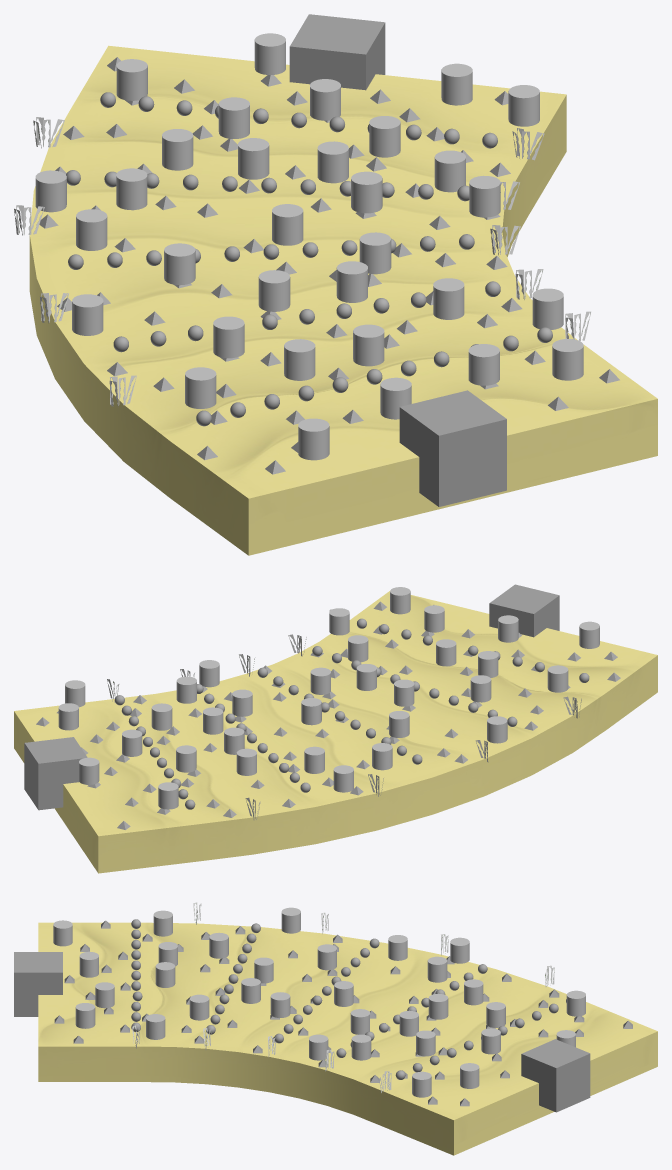
The model's file is assets006_Streckenteil_rechts001.fbx.
3 views of the same model, one above another, from view 1: azimuth 30°, elevation 25°; view 2: azimuth 150°, elevation 25°; view 3: azimuth 270°, elevation 25° (orthographic). The views are drawn at different scales.
Visible parts, largest first — view 1: streckenteil_rechtskurve_geo1, b (×12), a (×12), startpoint, c (×7), startpoint1, d; view 2: streckenteil_rechtskurve_geo1, a (×12), b (×12), c (×7), startpoint1, startpoint, d; view 3: streckenteil_rechtskurve_geo1, b (×12), a (×12), startpoint1, c (×6), startpoint, d.
Boxes of the visible parts, box(x1,y1,x2,y2) form: streckenteil_rechtskurve_geo1: box(29, 45, 657, 555); b (×12): box(35, 63, 500, 311); a (×12): box(72, 261, 583, 460); startpoint: box(399, 390, 506, 506); c (×7): box(116, 33, 539, 213); startpoint1: box(289, 14, 385, 90); d: box(369, 116, 400, 157); streckenteil_rechtskurve_geo1: box(14, 591, 657, 873); a (×12): box(329, 587, 599, 743); b (×12): box(58, 660, 414, 792); c (×7): box(65, 680, 256, 809); startpoint1: box(24, 737, 87, 810); startpoint: box(489, 584, 559, 637); d: box(151, 703, 172, 730); streckenteil_rechtskurve_geo1: box(38, 922, 657, 1155); b (×12): box(254, 935, 505, 1088); a (×12): box(53, 907, 300, 1039); startpoint1: box(521, 1039, 590, 1112); c (×6): box(350, 979, 585, 1097); startpoint: box(14, 952, 62, 1016); d: box(416, 1030, 435, 1056).
Bounding box in the file's own units: 48.67 × 6.68 × 65.87.
